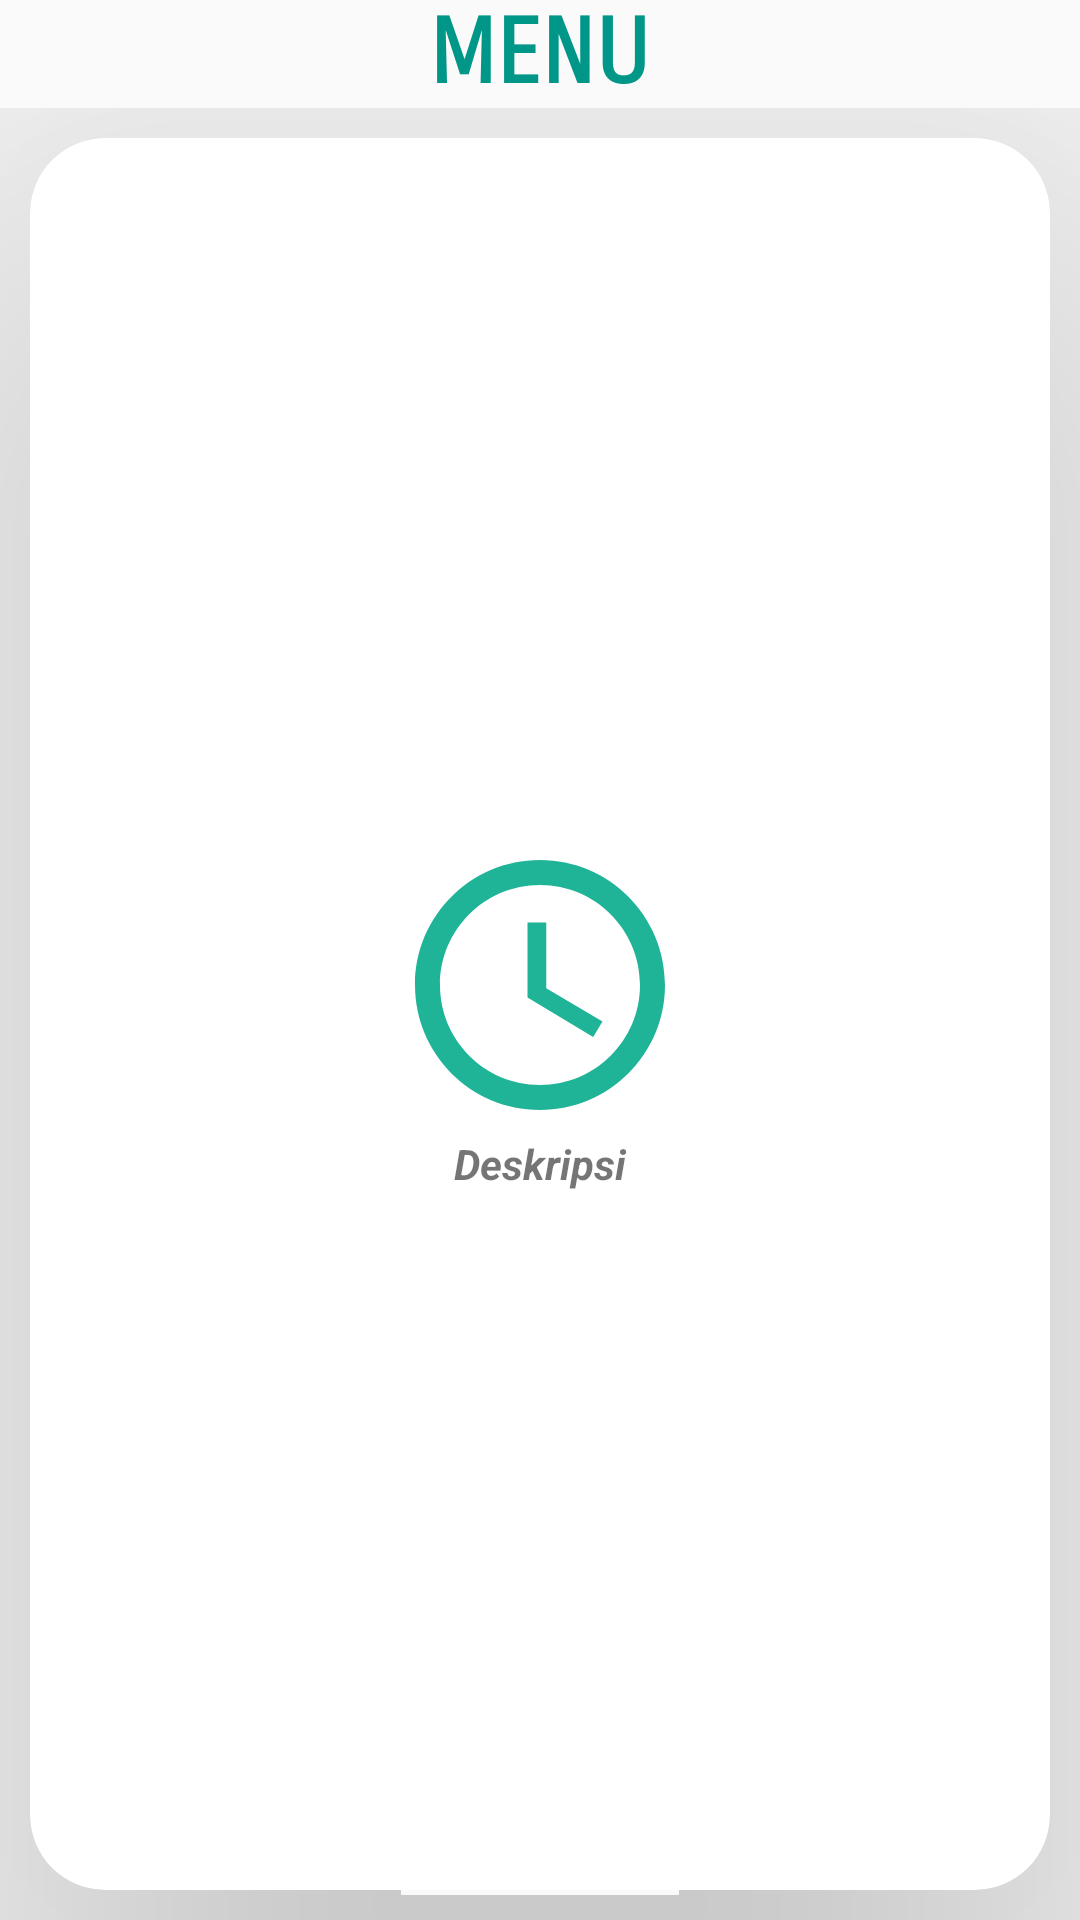

Point at icon controls on the screen. Image size 1080w x 1920h, points as (x,y).
durasi video: (540,985)
